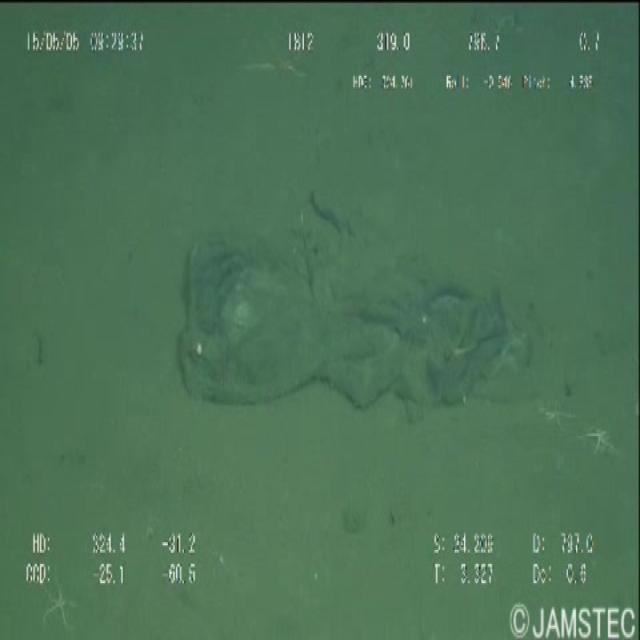Rope: (178, 196, 529, 434)
